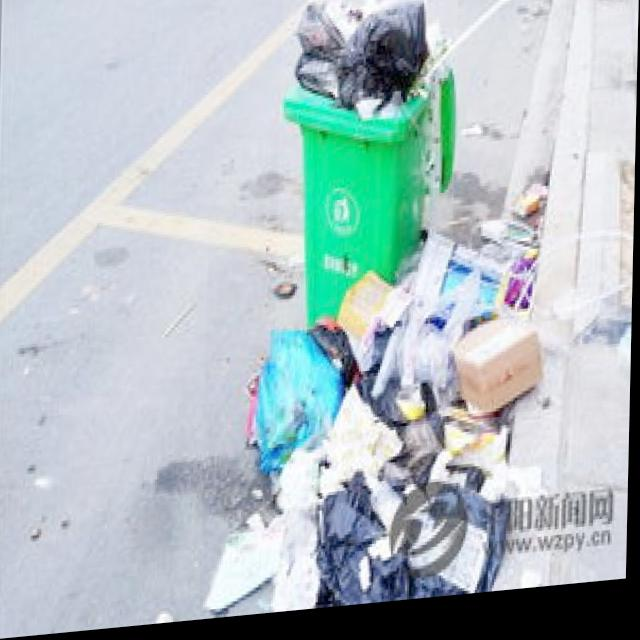garbage: (203, 185, 547, 621)
overflow: (277, 0, 459, 339)
